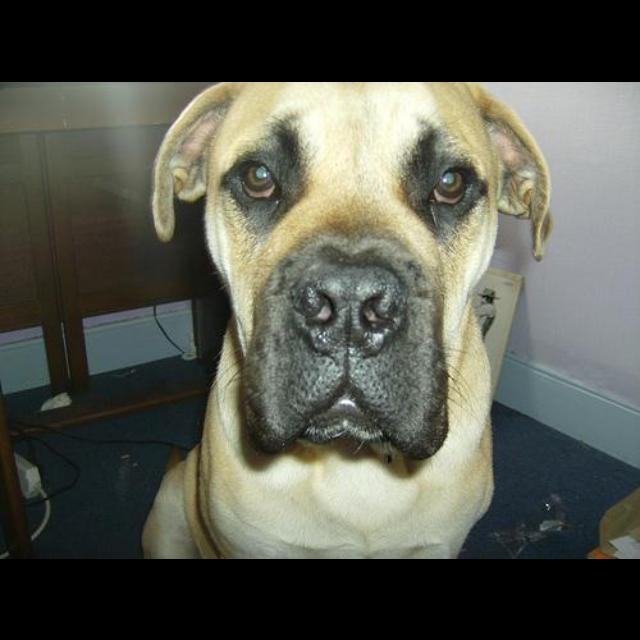bullmastiff: (141, 82, 554, 558)
